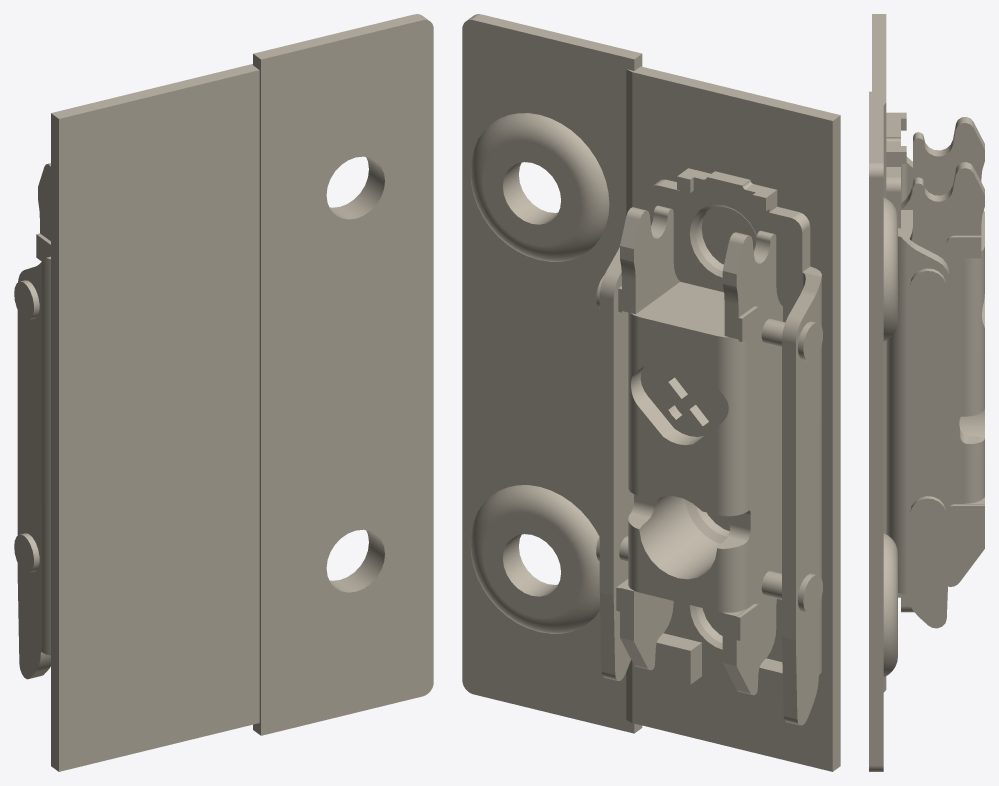
3 views of the same model, side by side, from view 1: azimuth 30°, elevation 25°; view 2: azimuth 150°, elevation 25°; view 3: azimuth 270°, elevation 25° (orthographic). The views are drawn at different scales.
Parts seen in each view (by area): view 1: bau0018911312-1, bau0027282328-1; view 2: bau0018911312-1, bau0027282328-1; view 3: bau0027282328-1, bau0018911312-1.
Boxes of the visible parts, left/top/right/bottom form: bau0018911312-1: left=51, top=14, right=433, bottom=771; bau0027282328-1: left=14, top=163, right=50, bottom=679; bau0018911312-1: left=462, top=14, right=840, bottom=771; bau0027282328-1: left=596, top=168, right=822, bottom=725; bau0027282328-1: left=886, top=112, right=984, bottom=628; bau0018911312-1: left=869, top=14, right=897, bottom=771.
Size of the model in its own units: 33.83 by 58 by 10.
